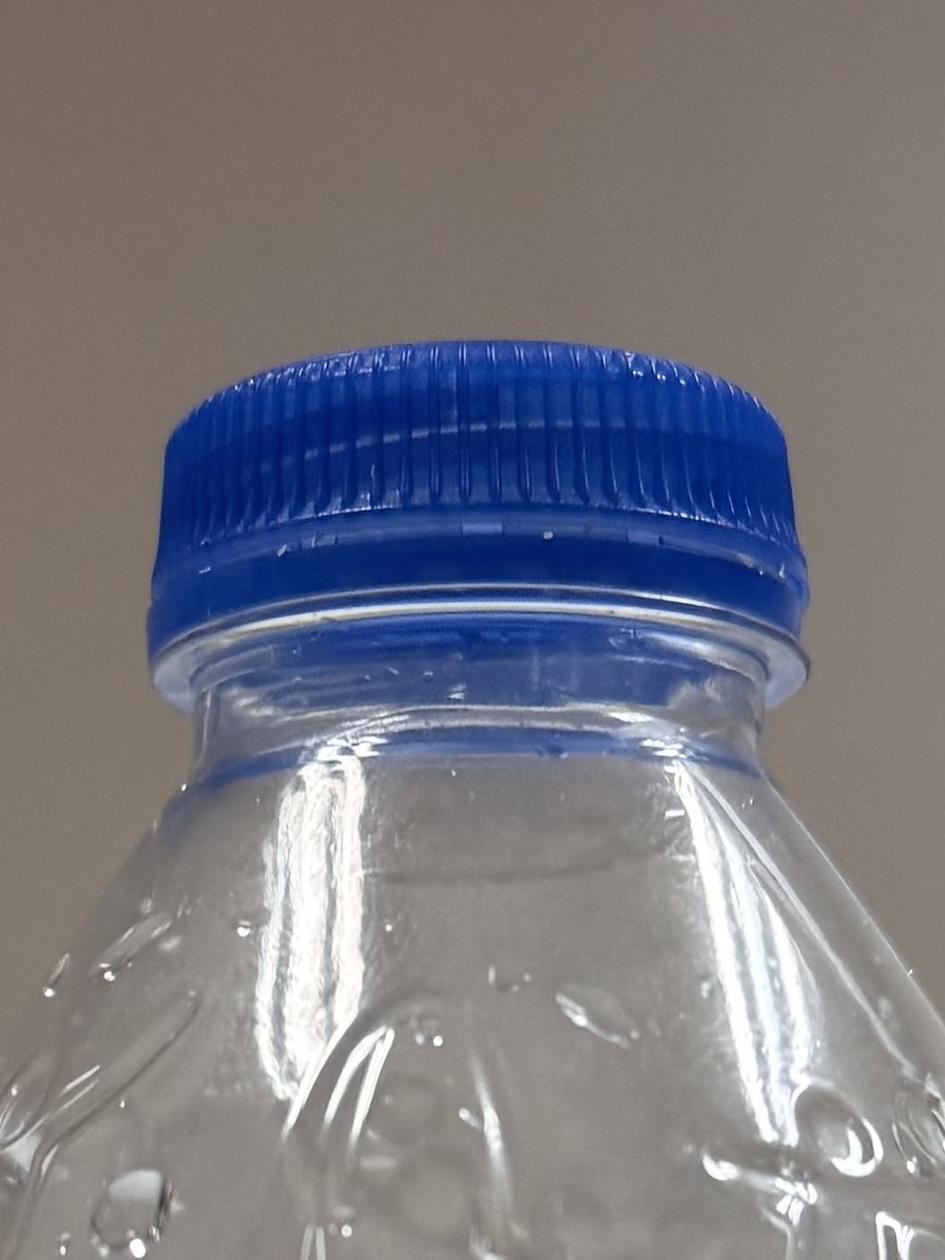closed_cap: (142, 333, 815, 713)
